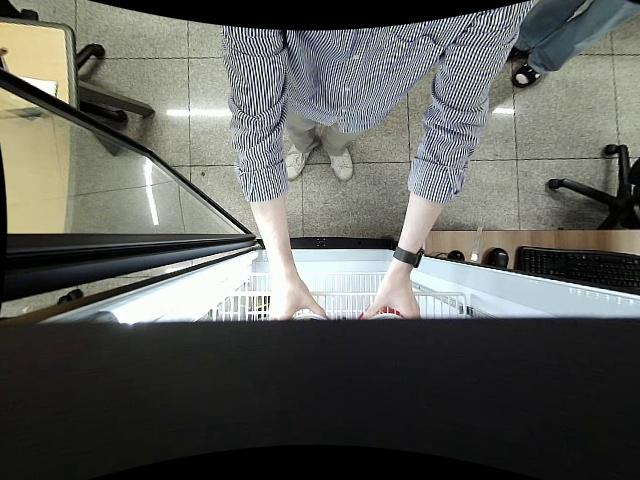00_hand: (269, 286, 329, 324), (362, 283, 423, 319)
09_yukGaeJang: (279, 309, 330, 324), (365, 306, 407, 321)
